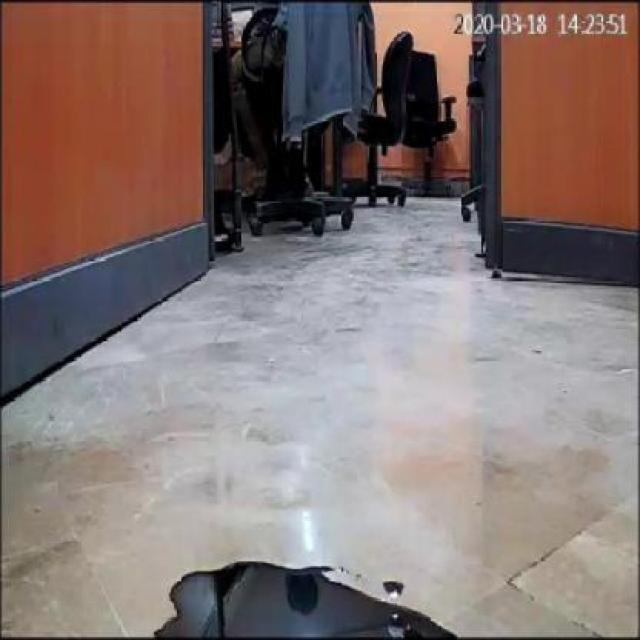spillage: (155, 565, 460, 637)
